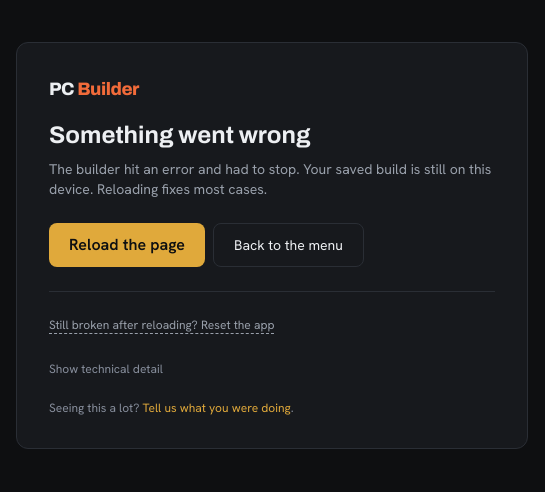
Test: ErrorBoundary › renders technical detail for an error with no .message
The width and height of the screenshot is (545, 492).
Click the button "Show technical detail" at (106, 368), box [49,360,163,376]
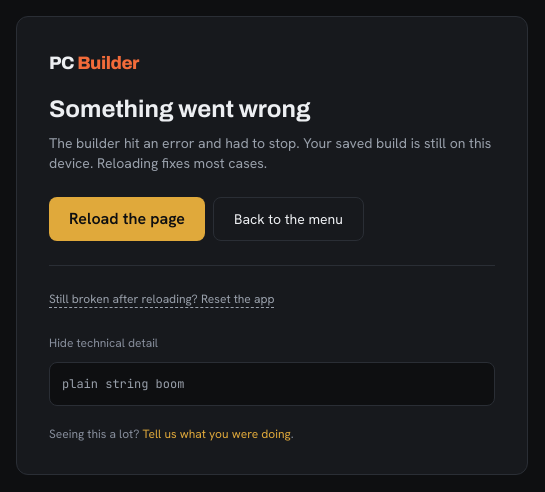
Expected: the text "plain string boom" is shown, [49,362,495,406]
